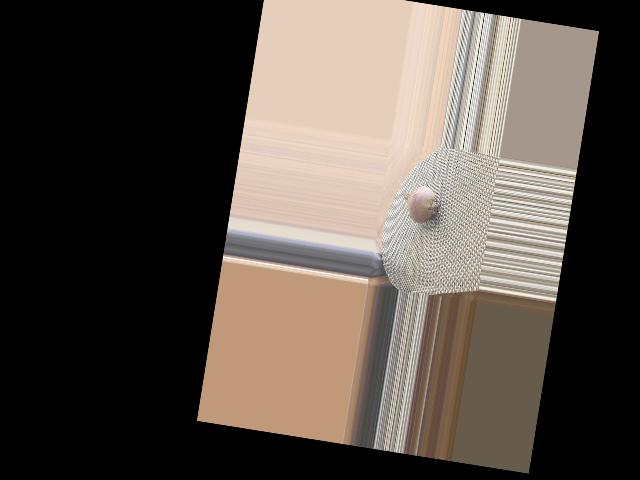beet: (392, 176, 445, 231)
